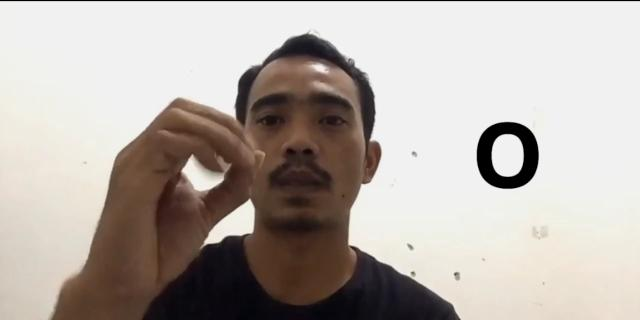O: (86, 97, 266, 297)
